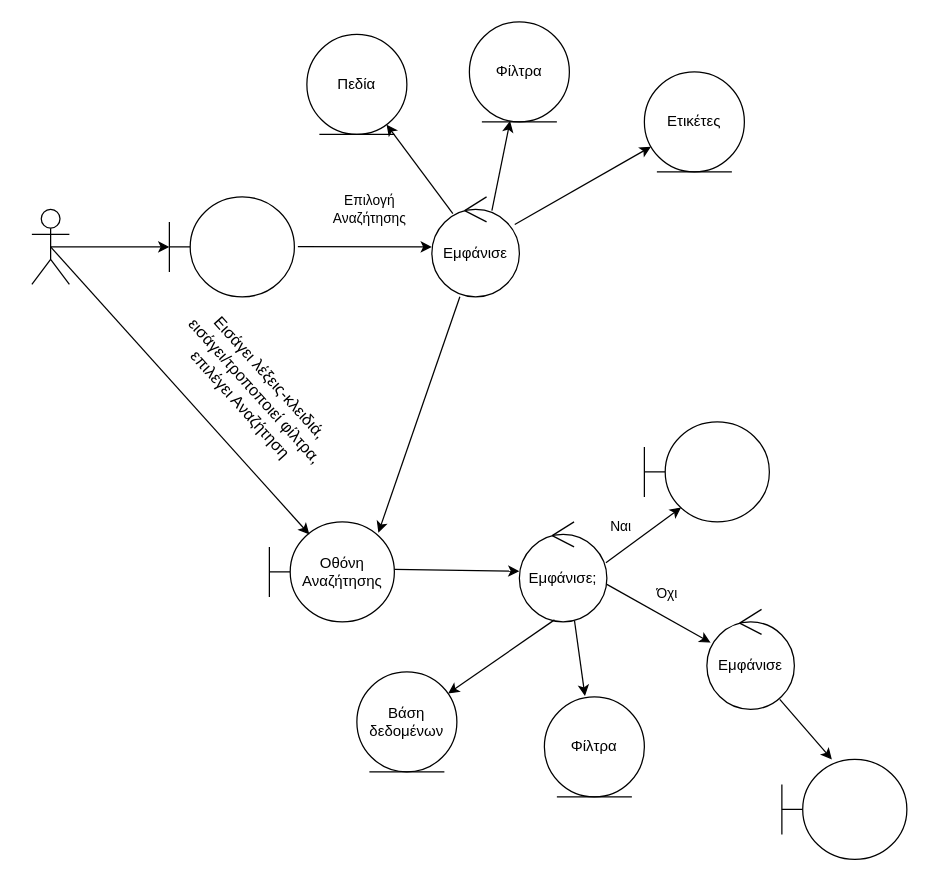
Some shapes in this 929 by 881 pixel diagram are drawn without their labels. Each missing label, with the centre of its shape:
Λίστα αποτε- λεσμάτων: point (706, 471)
Οθόνη Κεντρικό μενού: point (231, 246)
Οθόνη Μήνυμα αποτυχίας: point (844, 808)
Χρήστης: point (50, 246)
